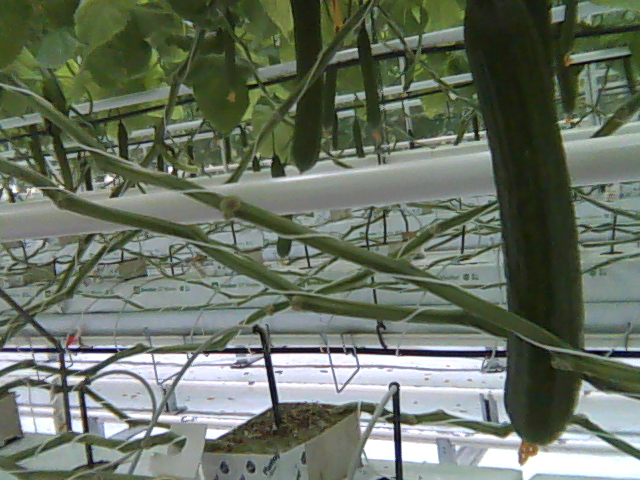concombre: (463, 1, 592, 468)
